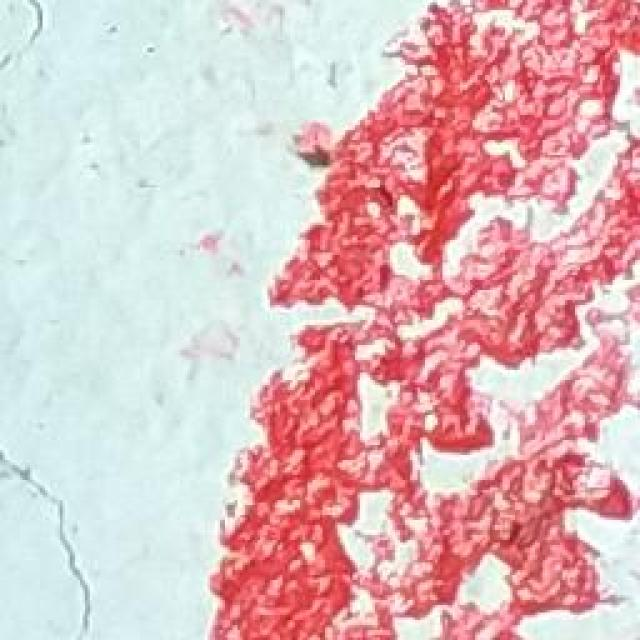Longitudinal: (0, 425, 119, 640), (0, 0, 54, 84)
Rippled: (184, 0, 640, 640)
